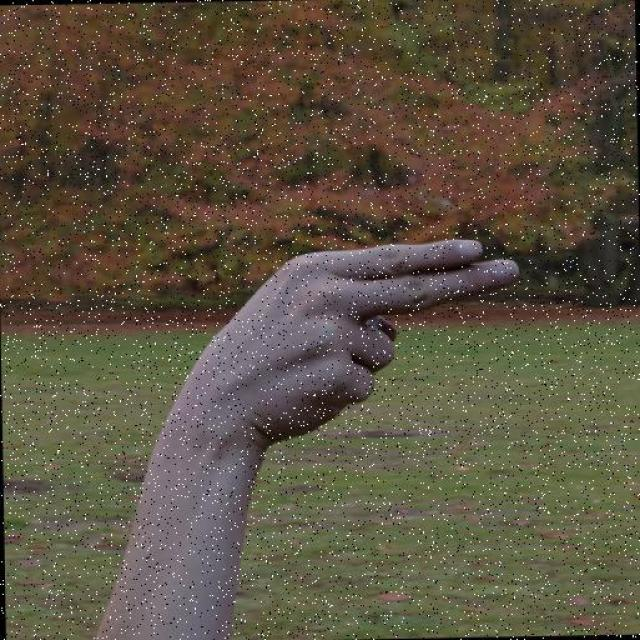H: (141, 228, 528, 470)
